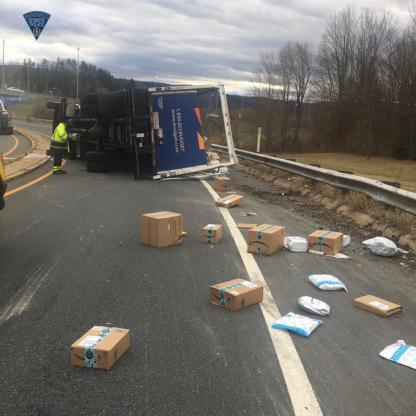package: (68, 322, 132, 372), (208, 277, 267, 312), (140, 208, 185, 249), (353, 292, 407, 318), (247, 222, 285, 258), (308, 228, 348, 255), (201, 223, 225, 246), (217, 194, 244, 208), (213, 176, 235, 192)
